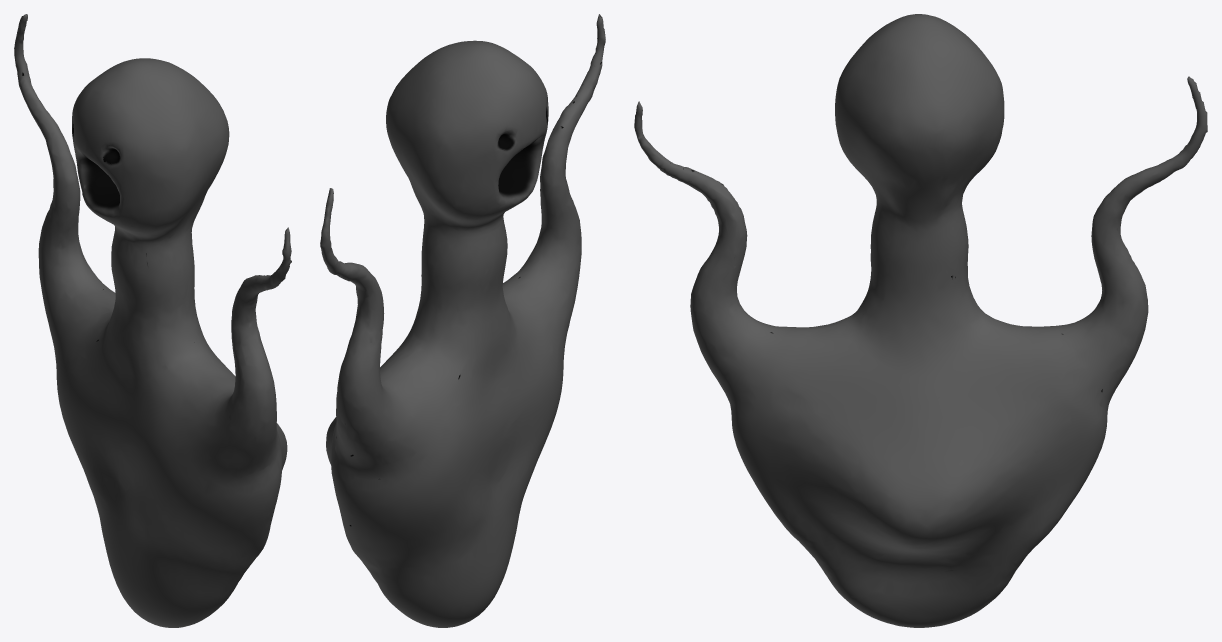
The model's file is Aliens.fbx.
The picture shows the model from 3 angles, left to right: view 1: azimuth 30°, elevation 25°; view 2: azimuth 150°, elevation 25°; view 3: azimuth 270°, elevation 25°; orthographic projection. The views are drawn at different scales.
Visible parts, largest first — view 1: Cube; view 2: Cube; view 3: Cube.
Boxes of the visible parts, x1=… form: Cube: x1=14, y1=14, x2=291, y2=627; Cube: x1=320, y1=14, x2=605, y2=627; Cube: x1=634, y1=14, x2=1207, y2=627.
Size of the model in its own units: 144 by 402 by 351.
